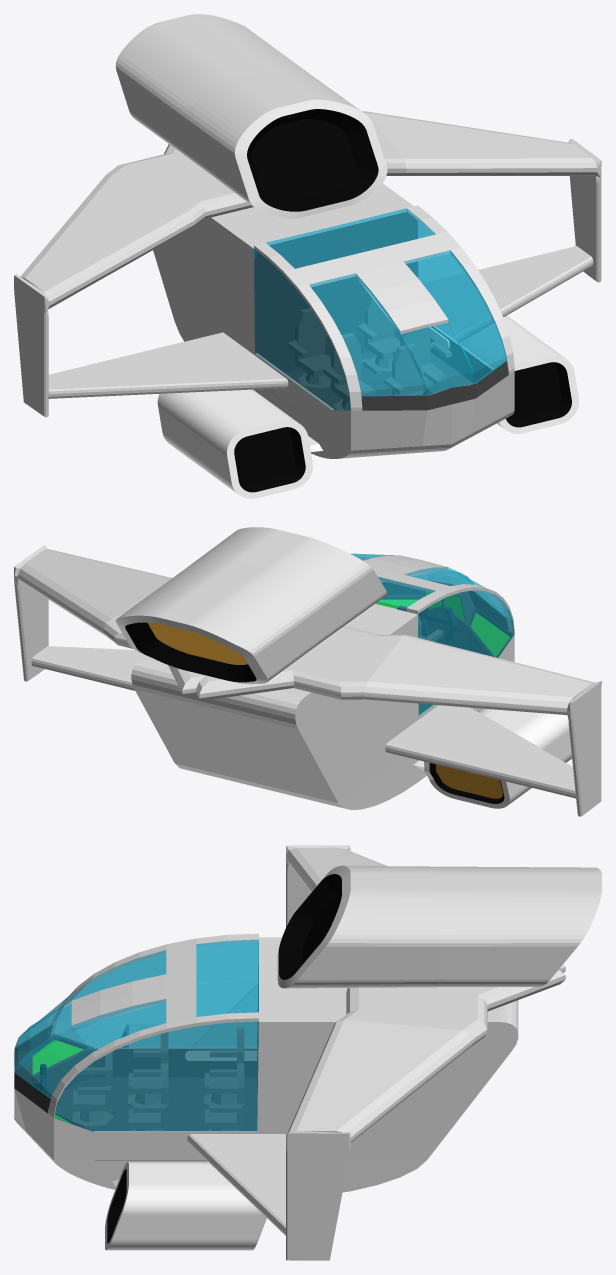
File: Space_ship_3.fbx
The picture shows the model from 3 angles, top to bottom: view 1: azimuth 30°, elevation 25°; view 2: azimuth 150°, elevation 25°; view 3: azimuth 270°, elevation 25°; orthographic projection. The views are drawn at different scales.
Parts seen in each view (by area): view 1: cabin, Cube.001, Plane, Cube.002, wingsBottom, seats, elCapi; view 2: cabin, Plane, Cube.001, wingsBottom, Cube.002, Cylinder; view 3: cabin, Cube.001, Plane, Cube.002, wingsBottom, seats, elCapi.
Part boxes in pixels (x1,y1,x2,y2): cabin: (153,183,514,458); Cube.001: (115,14,387,218); Plane: (14,111,601,417); Cube.002: (157,315,579,498); wingsBottom: (48,246,593,398); seats: (287,295,451,410); elCapi: (384,343,442,394); cabin: (131,553,514,810); Plane: (14,545,601,816); Cube.001: (115,527,387,684); wingsBottom: (31,646,575,798); Cube.002: (413,708,571,808); Cylinder: (419,607,457,640); cabin: (14,933,518,1192); Cube.001: (277,865,601,988); Plane: (286,845,565,1260); Cube.002: (105,1025,266,1250); wingsBottom: (185,984,285,1235); seats: (128,1028,244,1130); elCapi: (73,1052,113,1125).
Size of the model in its own units: 2323 by 2001 by 1081.
